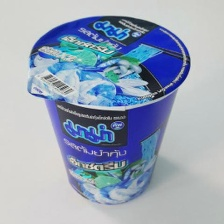paper_cup: (21, 10, 194, 209)
